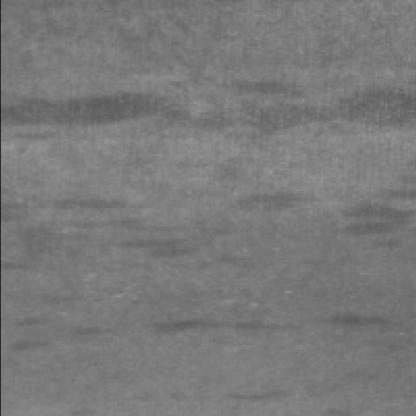inclusion: (0, 70, 410, 141), (25, 179, 154, 231), (146, 304, 304, 343), (220, 177, 324, 220), (110, 216, 196, 266), (328, 193, 412, 242), (304, 295, 399, 333), (208, 372, 298, 406), (60, 310, 127, 347)
